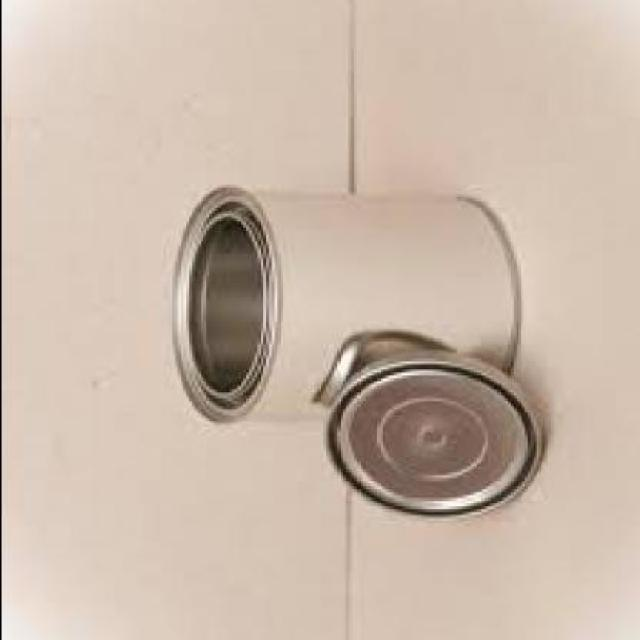METAL: (162, 193, 516, 427), (322, 340, 546, 518)
